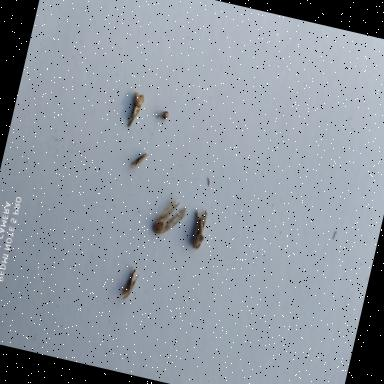pbw: (151, 189, 194, 241), (186, 206, 214, 254), (123, 88, 149, 131), (118, 266, 145, 306), (128, 148, 151, 174)
